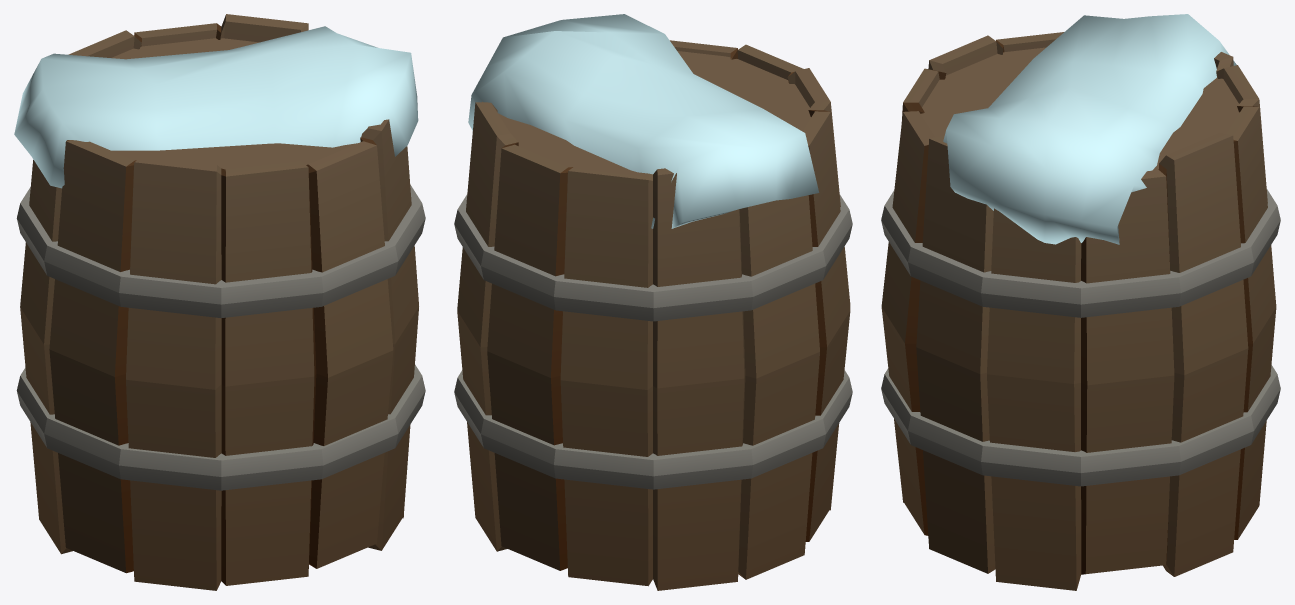
Rendered from Barrel_02_Winter_0_1.fbx.
3 views of the same model, side by side, from view 1: azimuth 30°, elevation 25°; view 2: azimuth 150°, elevation 25°; view 3: azimuth 270°, elevation 25° (orthographic). The views are drawn at different scales.
Parts seen in each view (by area): view 1: Cylinder.004; view 2: Cylinder.004; view 3: Cylinder.004.
Boxes of the visible parts, bbox=[...] form: Cylinder.004: bbox=[14, 14, 425, 590]; Cylinder.004: bbox=[454, 14, 852, 590]; Cylinder.004: bbox=[881, 14, 1280, 590].
Size of the model in its own units: 104 by 129 by 104.
